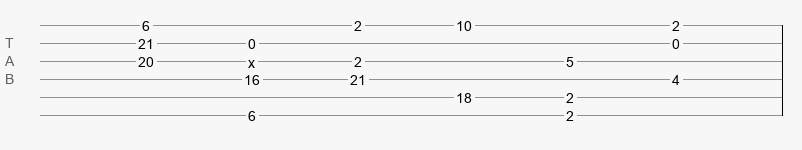0: (248, 36, 256, 46), (672, 36, 680, 46)
10: (456, 18, 472, 28)
16: (244, 72, 260, 82)
18: (456, 90, 472, 100)
2: (354, 54, 362, 64), (354, 18, 362, 28), (566, 90, 574, 100), (566, 108, 574, 118), (672, 18, 680, 28)
20: (138, 54, 154, 64)
21: (138, 36, 154, 46), (350, 72, 366, 82)
4: (672, 72, 680, 82)
5: (566, 54, 574, 64)
6: (142, 18, 150, 28), (248, 108, 256, 118)
x: (248, 55, 255, 63)
